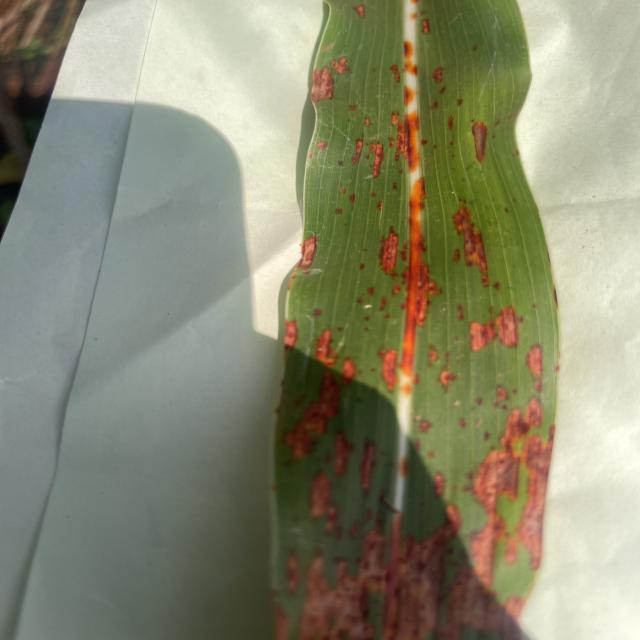millet_rust: (272, 0, 558, 640)
